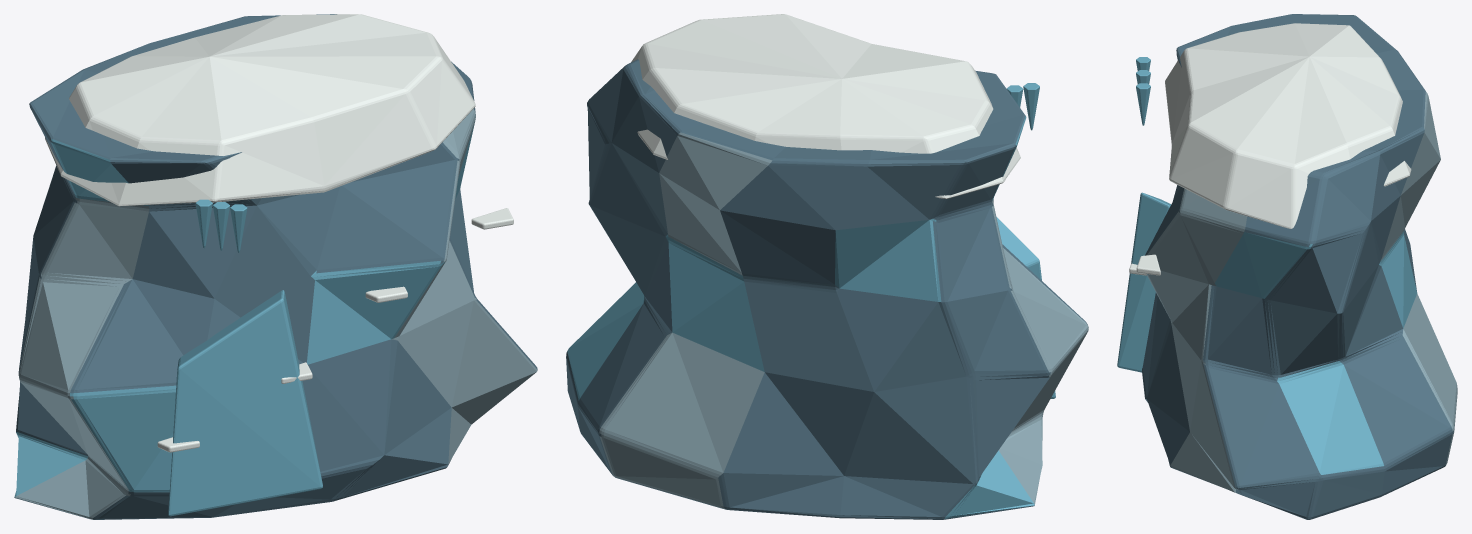
The model's file is CliffShelf.fbx.
3 views of the same model, side by side, from view 1: azimuth 30°, elevation 25°; view 2: azimuth 150°, elevation 25°; view 3: azimuth 270°, elevation 25° (orthographic). The views are drawn at different scales.
Parts seen in each view (by area): view 1: GFC2_CliffShelf_Rock, GFC2_CliffShelf_SnowCap, GFC2_CliffShelf_IceFracture, GFC2_CliffShelf; view 2: GFC2_CliffShelf_Rock, GFC2_CliffShelf_SnowCap, GFC2_CliffShelf_IceFracture, GFC2_CliffShelf; view 3: GFC2_CliffShelf_Rock, GFC2_CliffShelf_SnowCap, GFC2_CliffShelf_IceFracture, GFC2_CliffShelf.
Part boxes in pixels (bbox=[...]): GFC2_CliffShelf_Rock: bbox=[14, 14, 537, 519]; GFC2_CliffShelf_SnowCap: bbox=[45, 14, 475, 206]; GFC2_CliffShelf_IceFracture: bbox=[168, 290, 322, 516]; GFC2_CliffShelf: bbox=[157, 199, 513, 452]; GFC2_CliffShelf_Rock: bbox=[566, 59, 1088, 519]; GFC2_CliffShelf_SnowCap: bbox=[631, 14, 1020, 198]; GFC2_CliffShelf_IceFracture: bbox=[996, 217, 1055, 398]; GFC2_CliffShelf: bbox=[1006, 83, 1039, 130]; GFC2_CliffShelf_Rock: bbox=[1142, 14, 1457, 519]; GFC2_CliffShelf_SnowCap: bbox=[1165, 23, 1411, 228]; GFC2_CliffShelf_IceFracture: bbox=[1117, 192, 1171, 372]; GFC2_CliffShelf: bbox=[1129, 57, 1160, 275].
Bounding box in the file's own units: 6.24 × 4.78 × 4.28.
